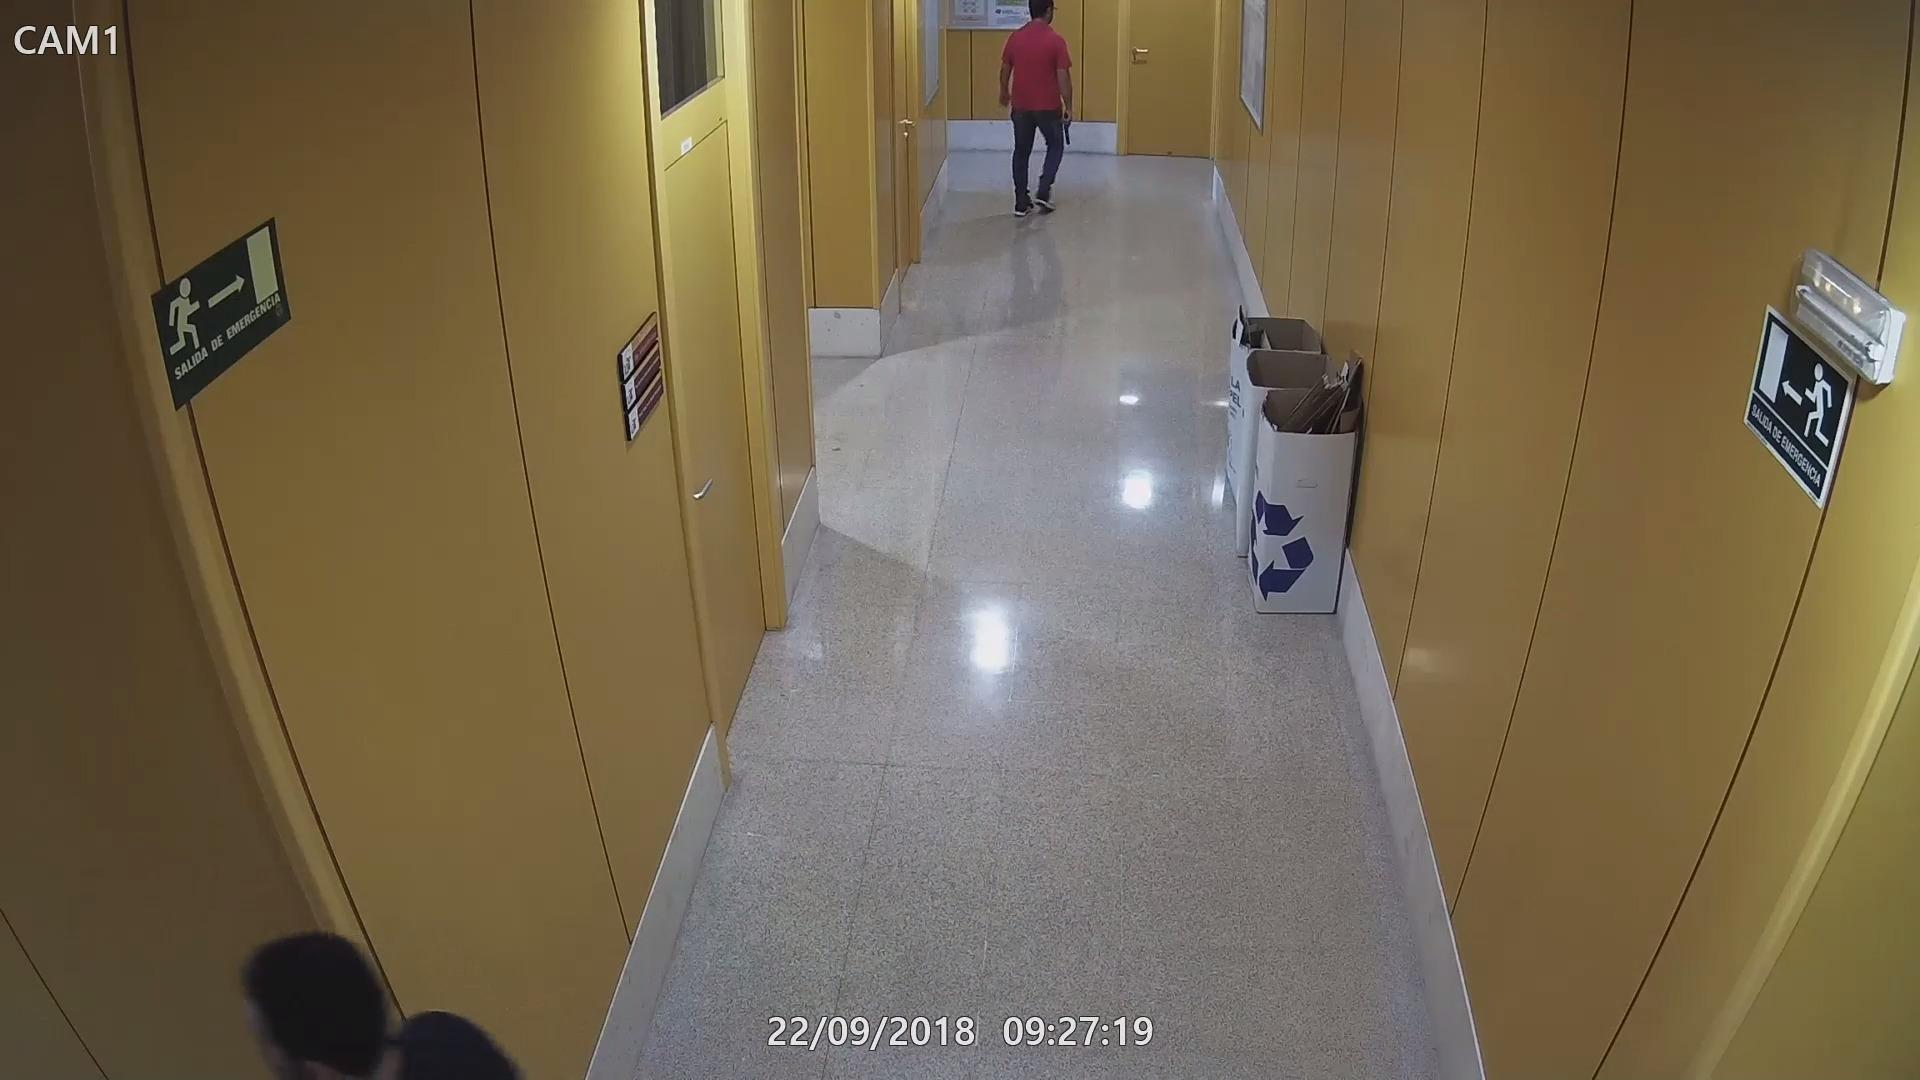Handgun: (1052, 103, 1076, 145)
